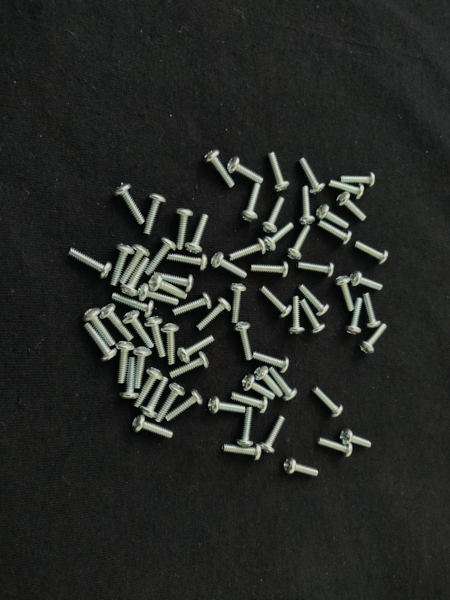shortscrew: (83, 323, 118, 363), (68, 248, 113, 279), (82, 308, 116, 348), (114, 183, 145, 225), (165, 389, 204, 422), (196, 297, 232, 332), (100, 304, 134, 341), (123, 310, 155, 349), (139, 376, 168, 419), (120, 243, 150, 284), (134, 367, 163, 409), (203, 150, 235, 188), (155, 383, 185, 423), (145, 238, 176, 276), (176, 334, 216, 363), (259, 285, 293, 319), (121, 256, 149, 297), (109, 243, 135, 286), (169, 352, 210, 379), (311, 385, 344, 418), (142, 193, 167, 236), (112, 293, 155, 318), (131, 414, 174, 439), (172, 291, 213, 317), (210, 251, 248, 279), (299, 156, 326, 195), (259, 416, 286, 455), (227, 156, 264, 184), (185, 213, 210, 254), (299, 284, 331, 316), (269, 367, 298, 402), (148, 274, 188, 299), (143, 316, 166, 358), (253, 366, 283, 398), (300, 299, 326, 335), (228, 238, 267, 262), (336, 192, 367, 222), (358, 323, 387, 355), (287, 224, 312, 261), (241, 374, 275, 401), (315, 204, 350, 230), (153, 272, 196, 293), (263, 223, 294, 252), (268, 152, 290, 192), (115, 341, 135, 385), (230, 391, 268, 414), (262, 197, 286, 233), (120, 357, 140, 400), (241, 184, 263, 223), (133, 347, 152, 392), (252, 351, 290, 373), (236, 406, 255, 450), (355, 241, 389, 265), (161, 323, 180, 365), (319, 221, 353, 244), (233, 322, 253, 361), (167, 253, 208, 272), (228, 283, 247, 323), (334, 276, 355, 312), (176, 208, 194, 250), (328, 180, 365, 200), (316, 437, 353, 457), (283, 458, 319, 478), (345, 298, 364, 335), (363, 292, 382, 328), (287, 297, 305, 335), (250, 261, 288, 279), (208, 396, 246, 414), (299, 186, 316, 226), (222, 443, 262, 460), (340, 428, 372, 449), (350, 271, 383, 291), (297, 262, 335, 277), (342, 172, 376, 188)
